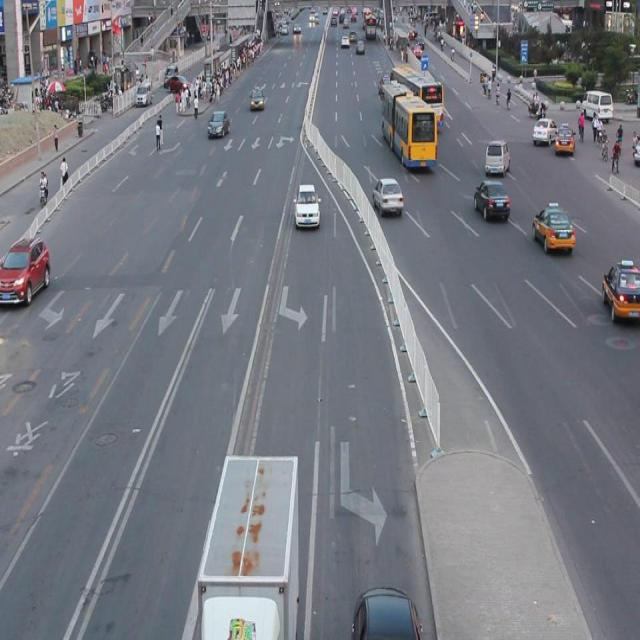bus: (196, 449, 298, 640)
car: (349, 584, 422, 640), (0, 236, 50, 304), (599, 261, 640, 321), (531, 206, 574, 254), (473, 177, 508, 220), (294, 182, 320, 228), (372, 176, 403, 213)
